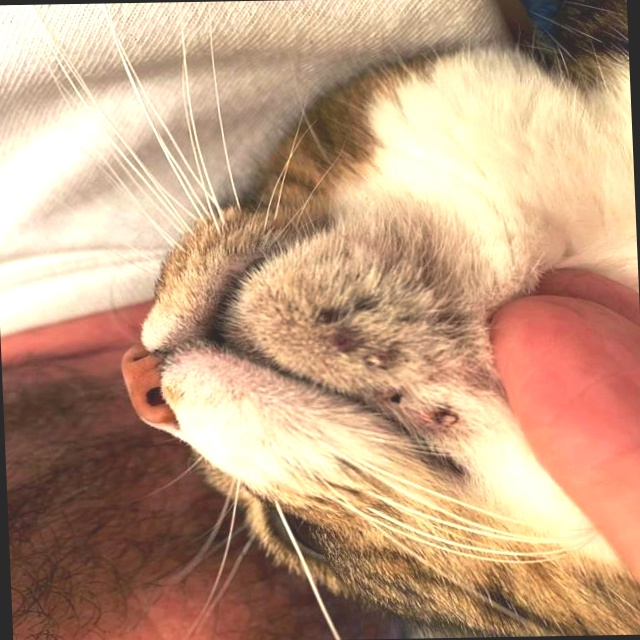acne: (285, 276, 484, 434)
